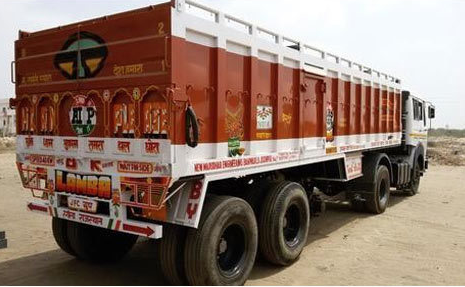truck: (12, 1, 443, 287)
